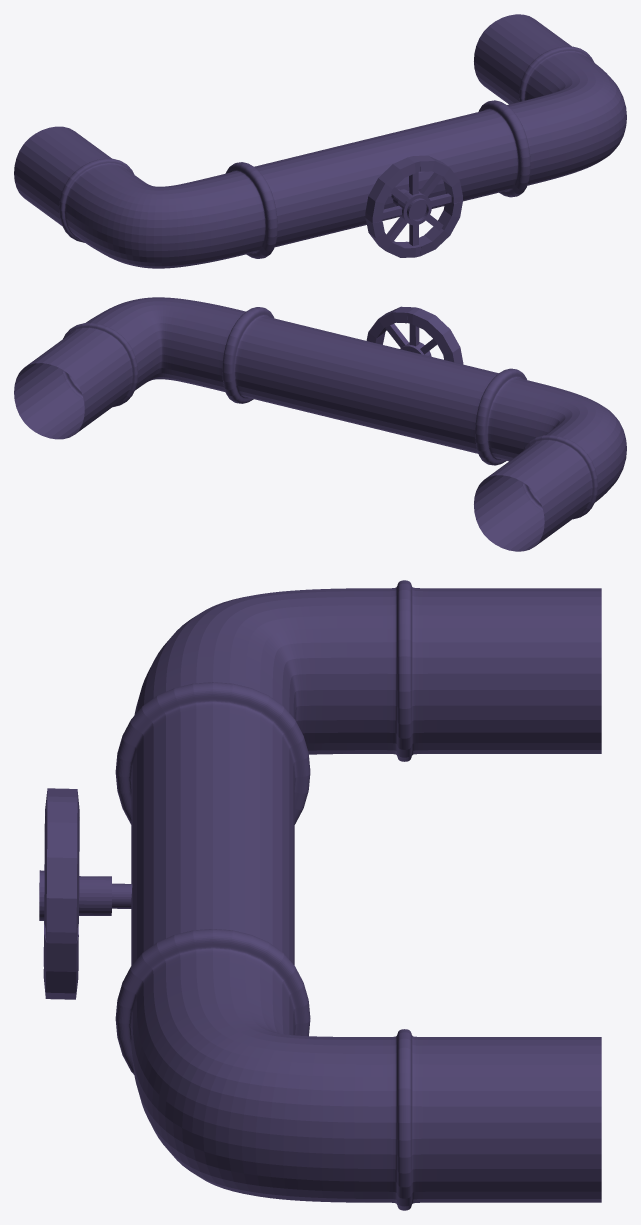
Rendered from Keran besar.fbx.
3 views of the same model, one above another, from view 1: azimuth 30°, elevation 25°; view 2: azimuth 150°, elevation 25°; view 3: azimuth 270°, elevation 25° (orthographic). The views are drawn at different scales.
Visible parts, largest first — view 1: Cube, Merged_PolyMesh3D5; view 2: Cube, Merged_PolyMesh3D5; view 3: Cube, Merged_PolyMesh3D5.
Part boxes in pixels (x1,y1,x2,y2): Cube: [14, 14, 626, 268]; Merged_PolyMesh3D5: [365, 155, 462, 257]; Cube: [14, 297, 626, 551]; Merged_PolyMesh3D5: [366, 306, 463, 364]; Cube: [115, 580, 601, 1210]; Merged_PolyMesh3D5: [39, 788, 132, 999].
Bounding box in the file's own units: 1391 × 234 × 630.
